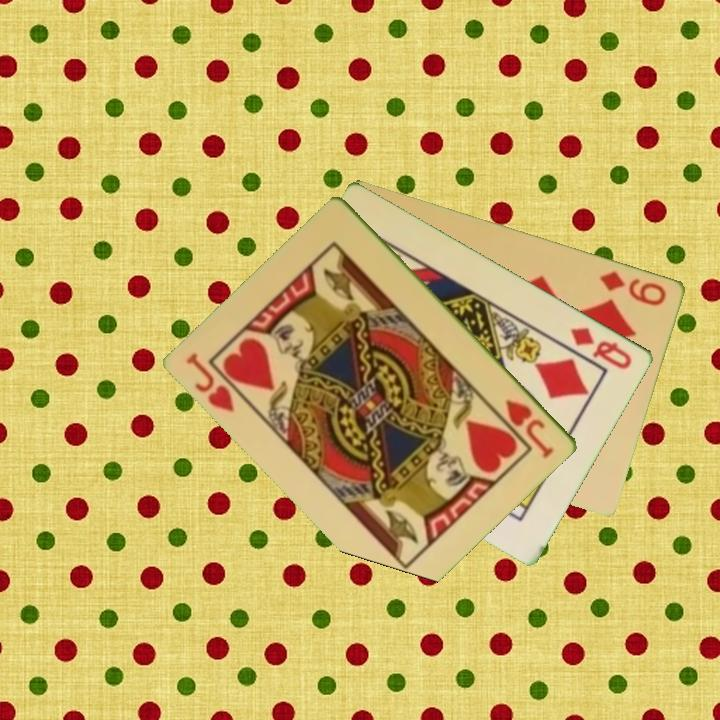9d: (597, 267, 670, 309)
Jh: (183, 349, 239, 416), (502, 395, 558, 461)
Qd: (567, 323, 636, 373)
